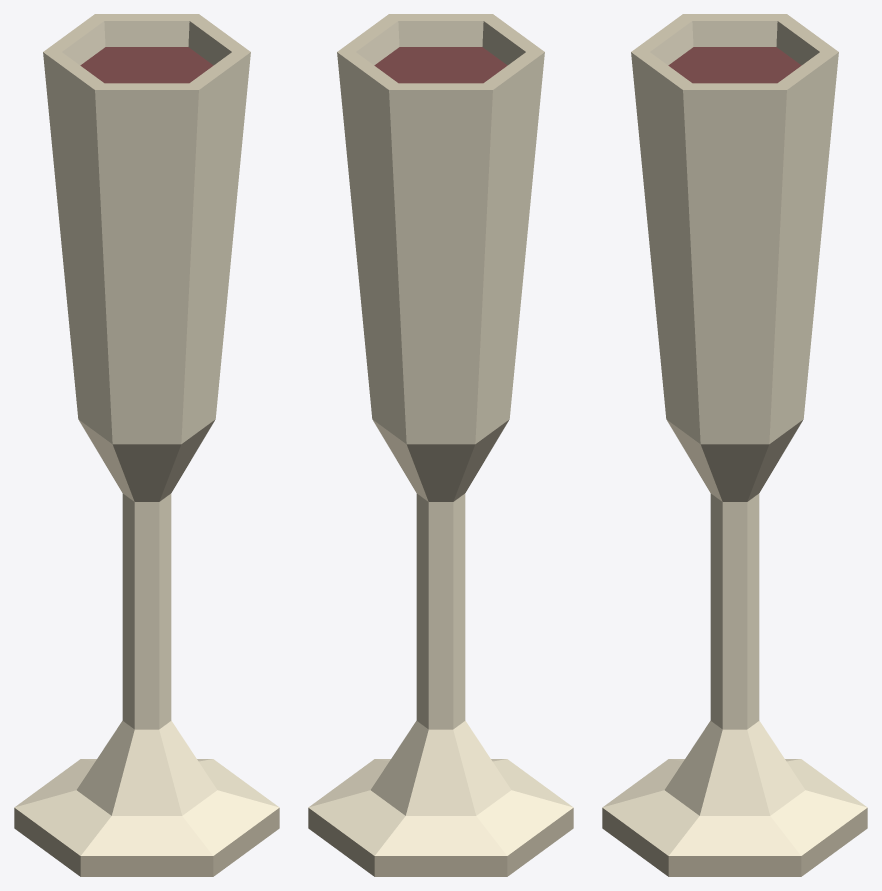
File: Chalice_02.glb
3 views of the same model, side by side, from view 1: azimuth 30°, elevation 25°; view 2: azimuth 150°, elevation 25°; view 3: azimuth 270°, elevation 25° (orthographic).
Visible parts, largest first — view 1: Chalice_02; view 2: Chalice_02; view 3: Chalice_02.
Boxes of the visible parts, x1,y1,x2,y2 form: Chalice_02: (14,14,279,876); Chalice_02: (308,14,573,876); Chalice_02: (602,14,867,876).
Size of what is drawn, in the model's own units: 0.0543 by 0.2024 by 0.0627.
1 material, 1 textured.
